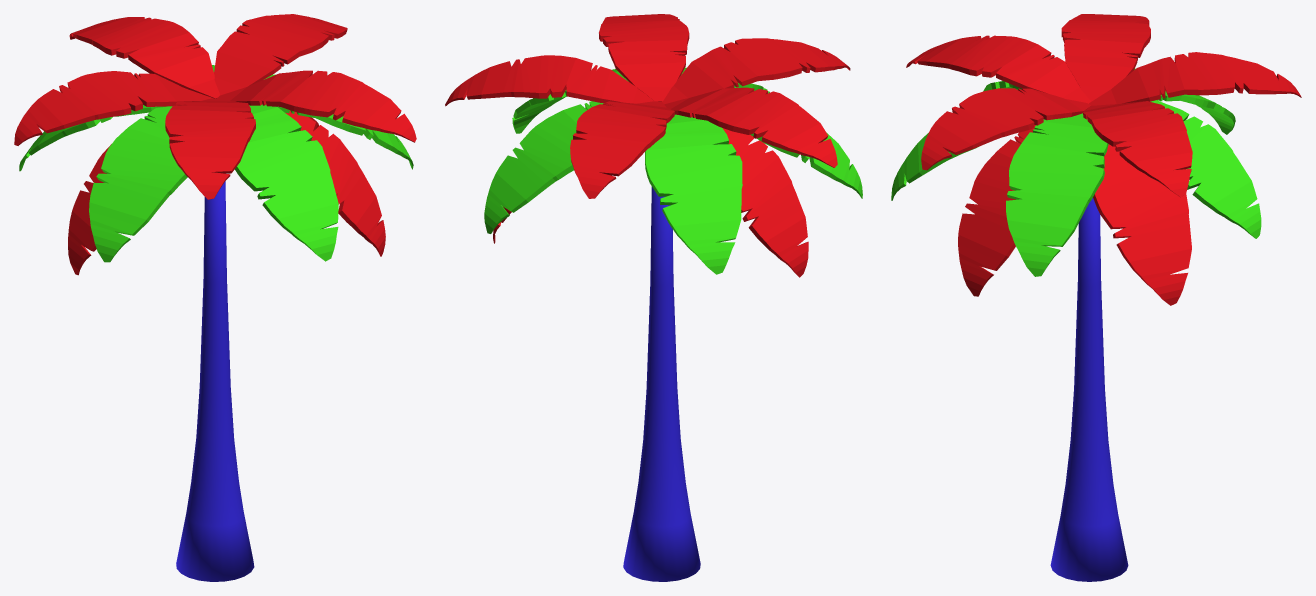
File: coqueiro.fbx
3 views of the same model, side by side, from view 1: azimuth 30°, elevation 25°; view 2: azimuth 150°, elevation 25°; view 3: azimuth 270°, elevation 25° (orthographic).
Parts seen in each view (by area): view 1: Coqueiro; view 2: Coqueiro; view 3: Coqueiro.
Part boxes in pixels (<box>): Coqueiro: <box>14,14,416,581</box>; Coqueiro: <box>445,14,862,581</box>; Coqueiro: <box>891,14,1301,581</box>.
Bounding box in the file's own units: 1376 × 1796 × 1373.
